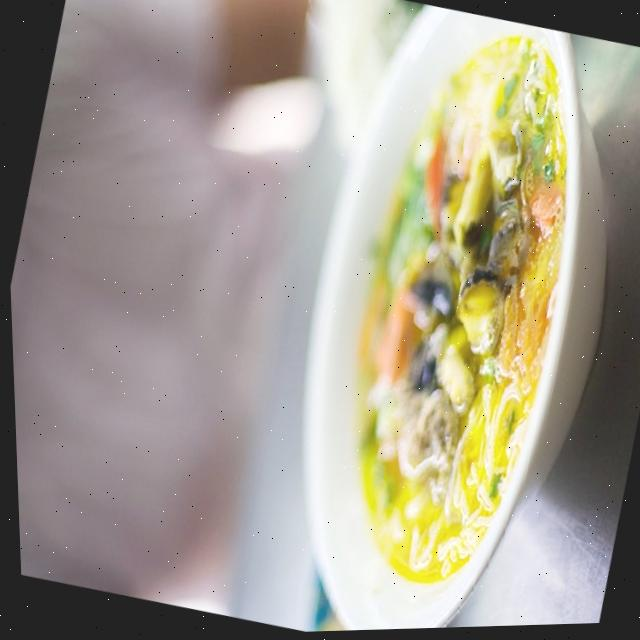面条主食: (215, 0, 640, 635)
